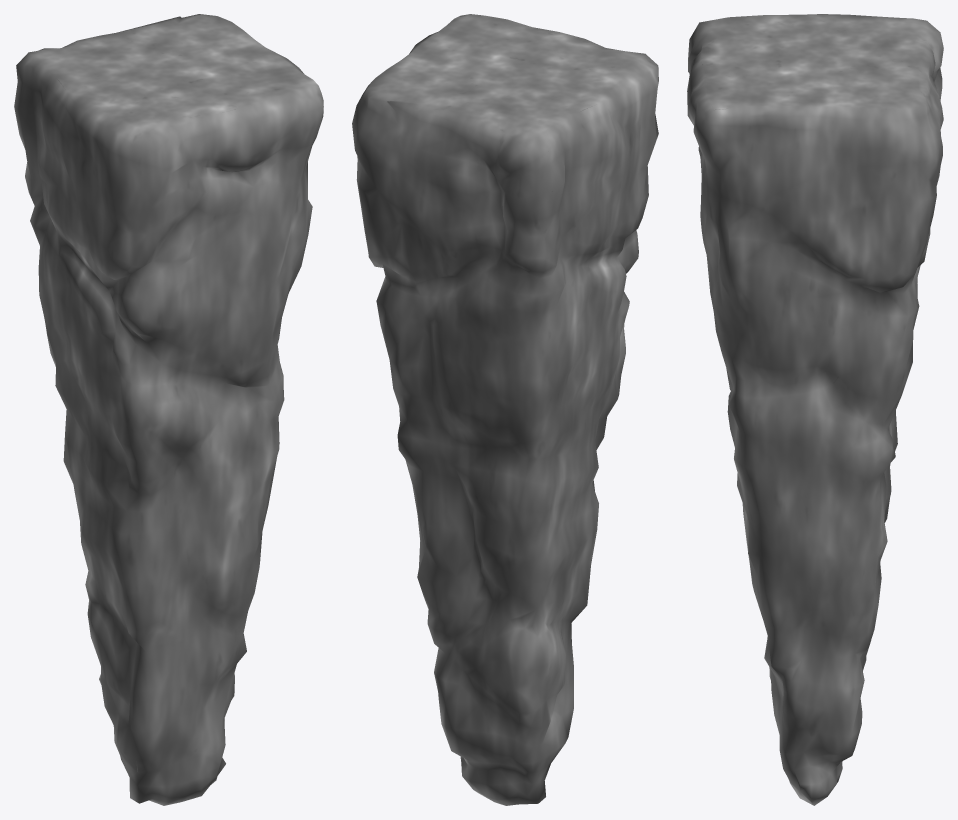
The model's file is Main Rock 6.fbx.
3 views of the same model, side by side, from view 1: azimuth 30°, elevation 25°; view 2: azimuth 150°, elevation 25°; view 3: azimuth 270°, elevation 25° (orthographic).
Parts seen in each view (by area): view 1: Main Rock 6; view 2: Main Rock 6; view 3: Main Rock 6.
Part boxes in pixels (left/top/right/bottom): Main Rock 6: left=14, top=14, right=323, bottom=805; Main Rock 6: left=352, top=14, right=658, bottom=805; Main Rock 6: left=687, top=14, right=943, bottom=805.
Size of the model in its own units: 110 by 349 by 111.
